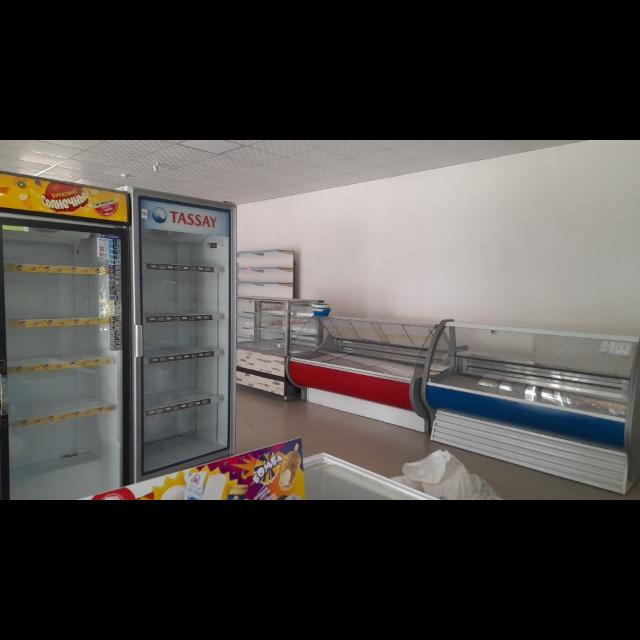Cooling-Display: (128, 187, 236, 483)
